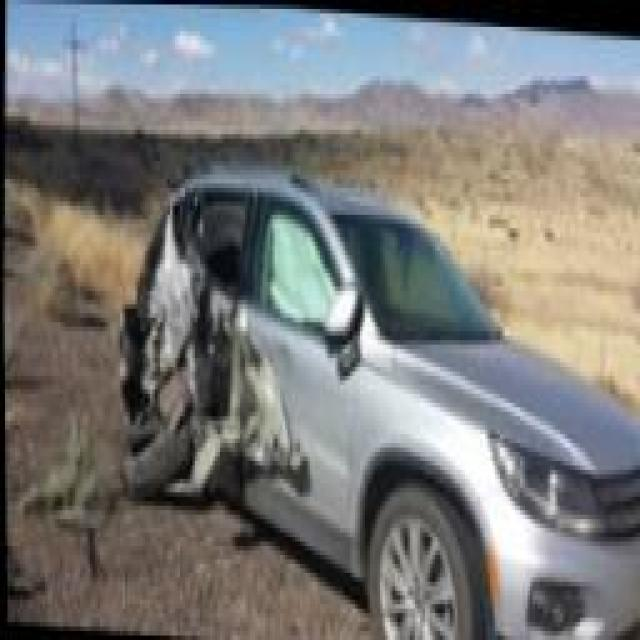Bumper: (114, 306, 146, 414)
Door: (142, 176, 302, 496)
